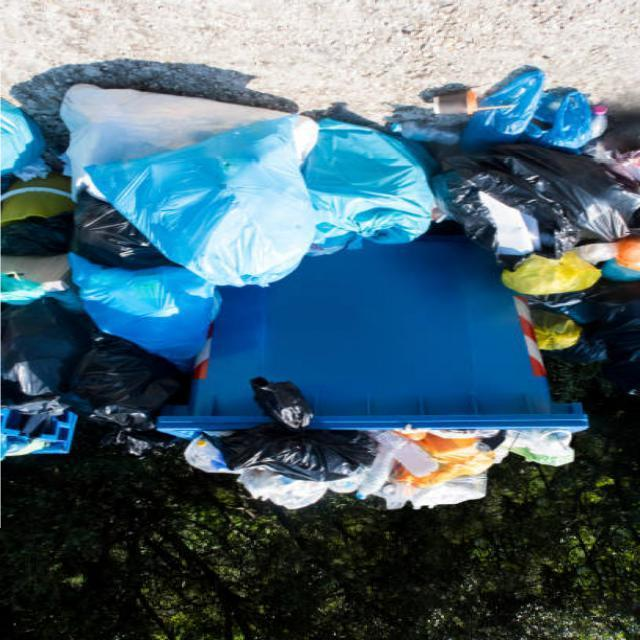Trashbag: (430, 137, 640, 269), (213, 373, 380, 488), (0, 195, 181, 279), (65, 335, 187, 435)
